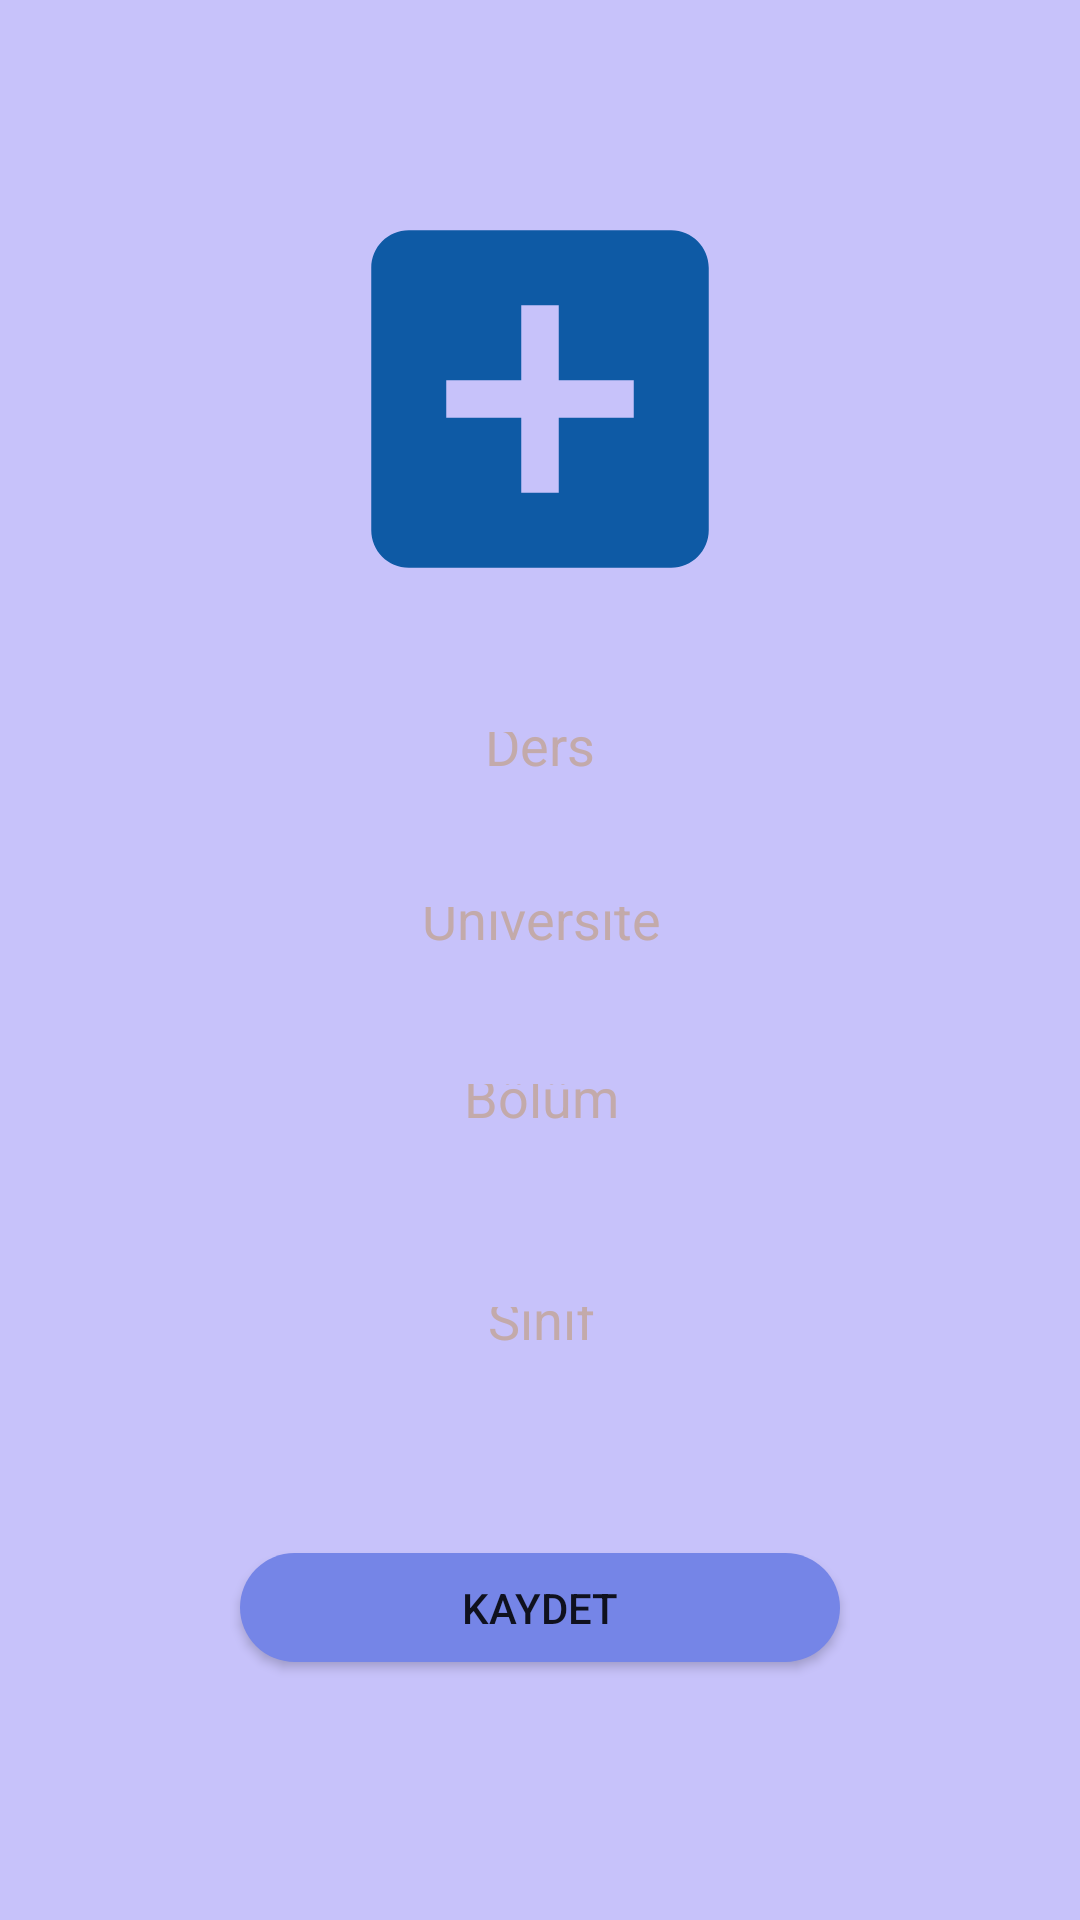

Icon click points for this 1080*1920 phone screenshot, format [x,y]:
notekle: [540,399]
